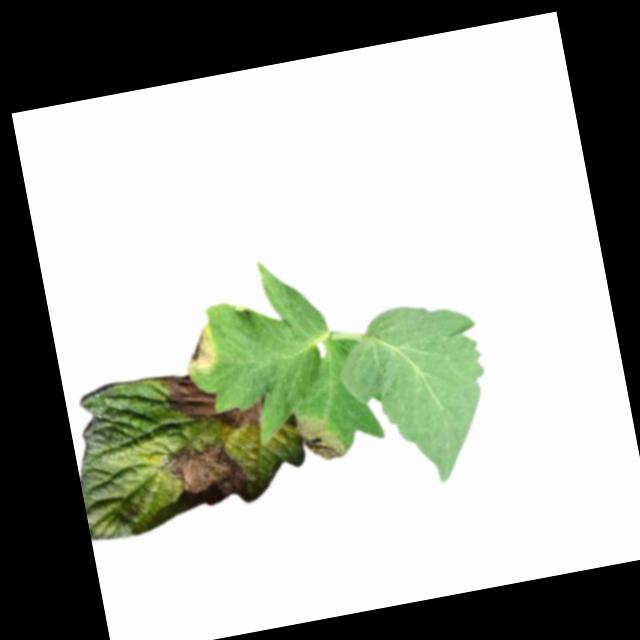Late_blight: (158, 438, 251, 515), (294, 405, 350, 470), (156, 371, 218, 426), (179, 322, 220, 373), (217, 399, 267, 433)
